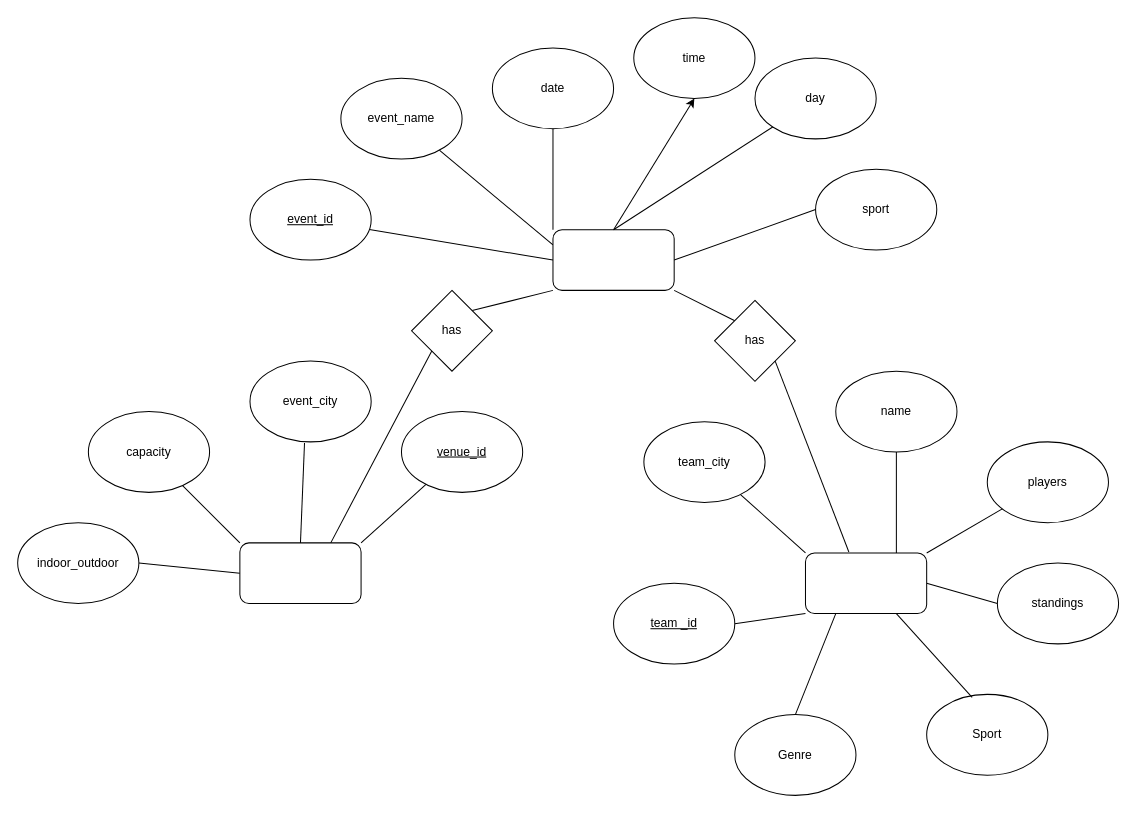
Image size: 1136x813. Some labels were removed from this diagram. The shapes that lost their labels are listed below. From the top down, each one's centre as x and y in pixels, then its label:
At pixel 613 259: "event".
At pixel 300 572: "venue".
At pixel 865 583: "team".
